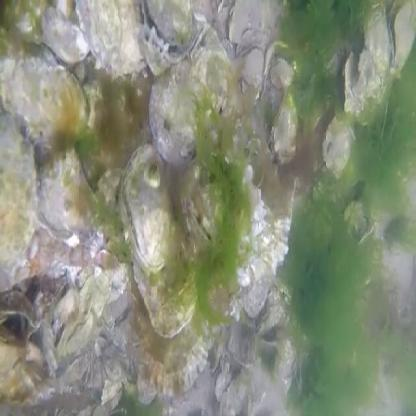Oyster- Indeterminate: (120, 145, 176, 276), (75, 0, 146, 83), (36, 148, 98, 242), (271, 95, 299, 166), (389, 0, 415, 69), (139, 26, 172, 76), (244, 165, 266, 238), (240, 47, 266, 88), (257, 307, 283, 339), (189, 24, 209, 61)
Oyster-Closed: (148, 50, 230, 168), (0, 56, 85, 152), (0, 114, 38, 290), (134, 240, 197, 337), (14, 0, 91, 68), (324, 113, 357, 180), (220, 368, 248, 416), (243, 274, 271, 319), (349, 209, 375, 241), (271, 59, 295, 88)
Oyster-Open: (344, 2, 391, 126), (140, 0, 192, 59)
